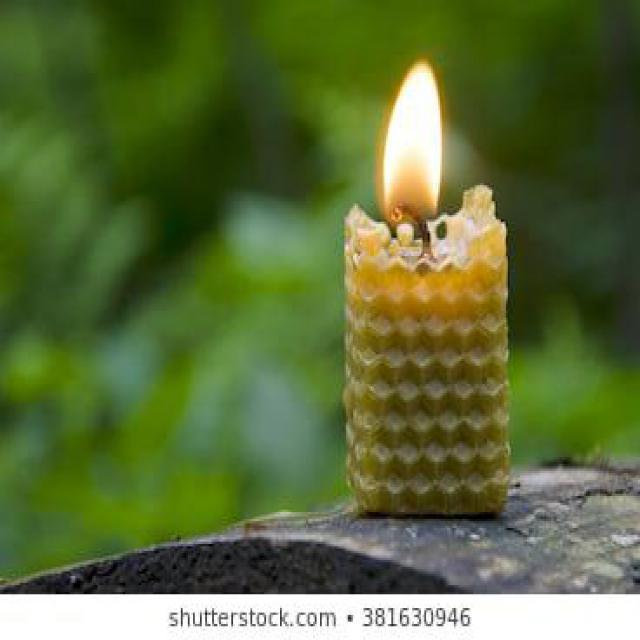Fire: (382, 61, 442, 228)
